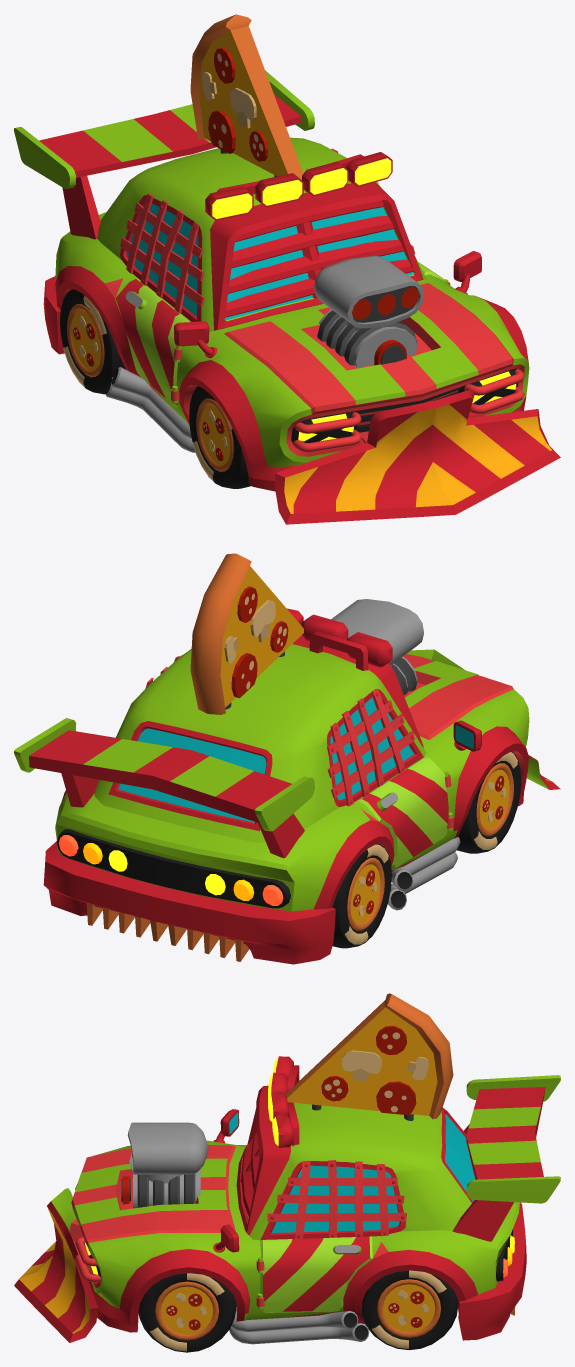
Rendered from SVehicle005.fbx.
3 renders of one model, top to bottom at view 1: azimuth 30°, elevation 25°; view 2: azimuth 150°, elevation 25°; view 3: azimuth 270°, elevation 25°, orthographic. The views are drawn at different scales.
Visible parts, largest first — view 1: SVehicle005, SV005_PizzaSlice, SV005_BR, SV005_FR; view 2: SVehicle005, SV005_PizzaSlice, SV005_BR, SV005_FR; view 3: SVehicle005, SV005_PizzaSlice, SV005_BL, SV005_FL.
Boxes of the visible parts, box(x1,y1,x2,y2) form: SVehicle005: box(14, 70, 560, 524); SV005_PizzaSlice: box(190, 14, 303, 179); SV005_BR: box(60, 289, 126, 394); SV005_FR: box(189, 386, 251, 488); SVehicle005: box(14, 599, 560, 964); SV005_PizzaSlice: box(190, 553, 303, 714); SV005_BR: box(332, 844, 391, 948); SV005_FR: box(457, 751, 520, 853); SVehicle005: box(14, 1056, 560, 1344); SV005_PizzaSlice: box(285, 993, 453, 1118); SV005_BL: box(361, 1270, 458, 1349); SV005_FL: box(138, 1273, 236, 1352).
Size of the model in its own units: 263 by 289 by 474.
1 material, 1 textured.
